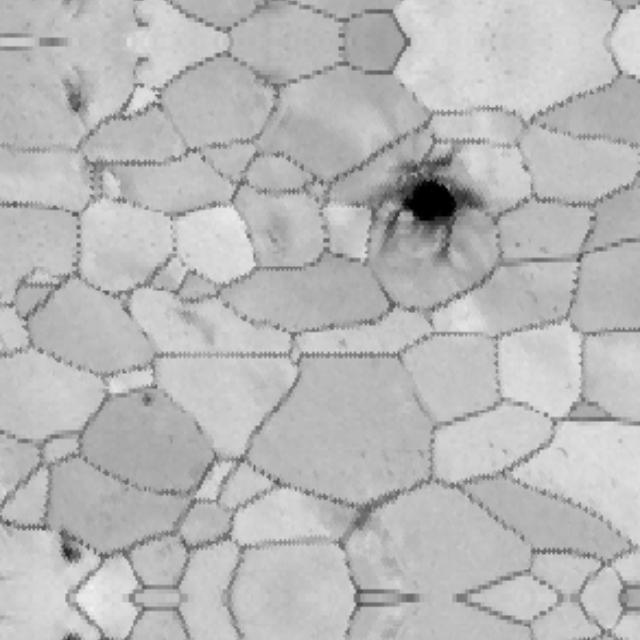good_void: (347, 132, 498, 289), (260, 201, 296, 256), (62, 68, 91, 127), (50, 533, 86, 572), (136, 388, 161, 413), (63, 0, 85, 15), (60, 631, 82, 640), (512, 238, 525, 252), (336, 338, 348, 349)
